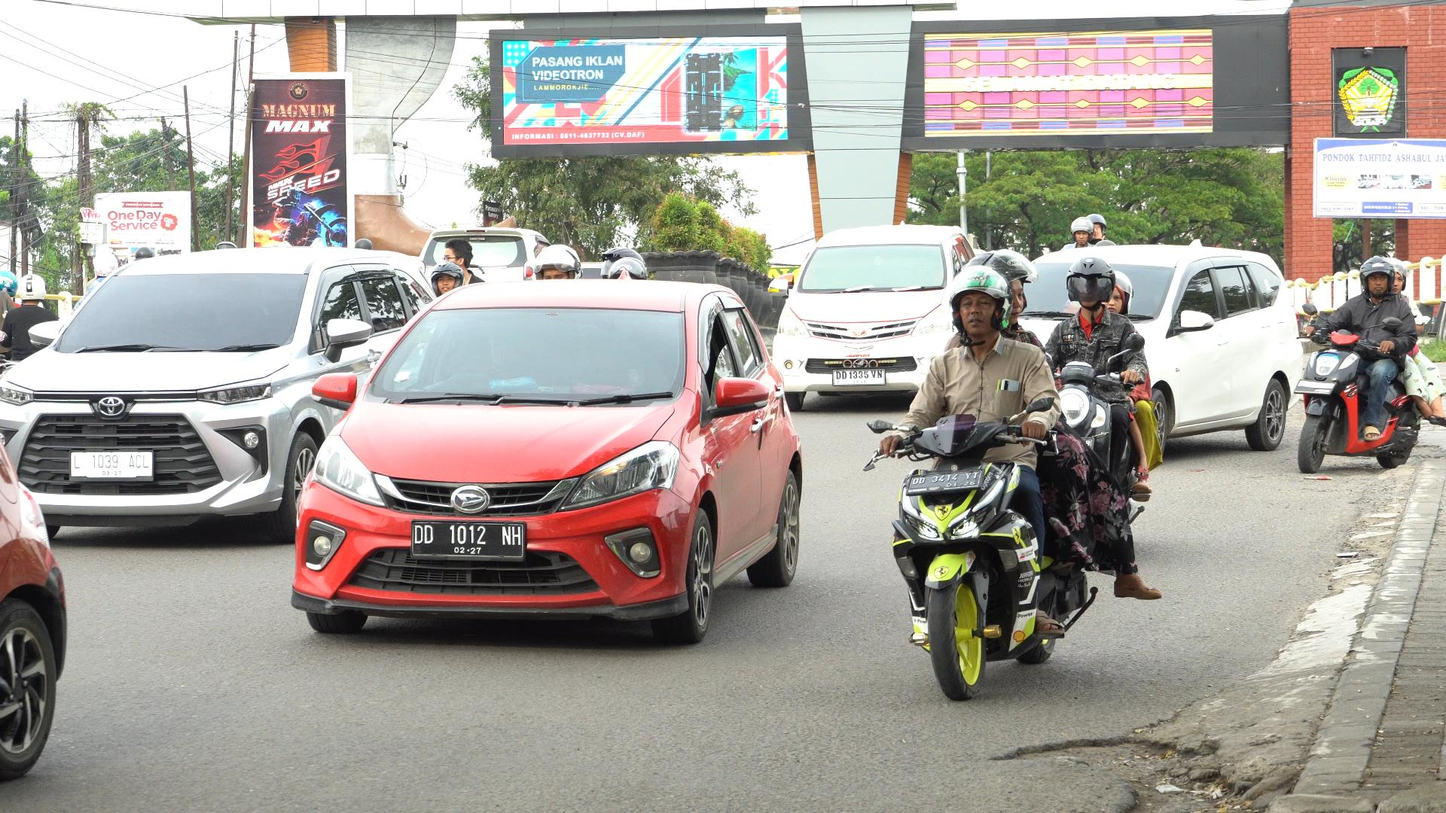number-plate: (907, 467, 983, 499)
